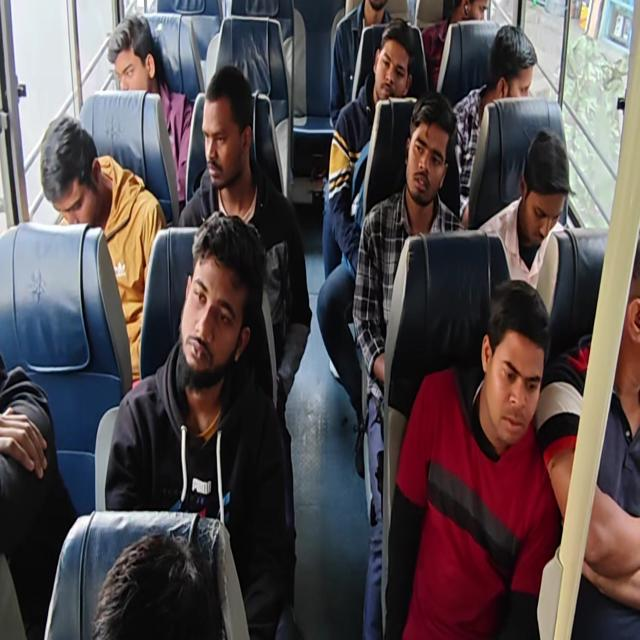person: (177, 213, 266, 399), (91, 526, 232, 640), (477, 267, 549, 446), (401, 82, 462, 230), (40, 112, 106, 230), (520, 112, 575, 248), (199, 58, 256, 189), (369, 22, 428, 107), (109, 7, 164, 94), (490, 24, 542, 107), (615, 225, 640, 396), (462, 0, 496, 21), (364, 0, 390, 15)
